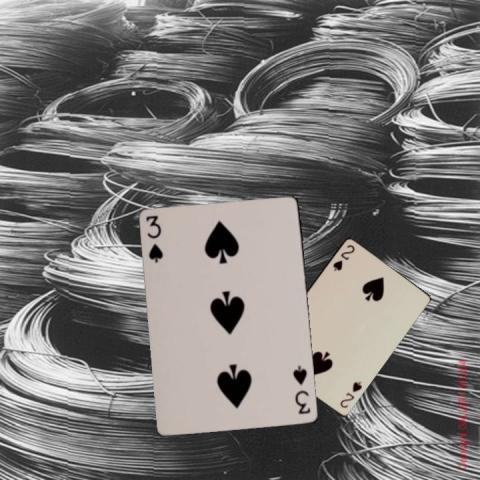2s: (330, 241, 356, 272), (337, 378, 363, 409)
3s: (290, 363, 312, 416), (143, 213, 165, 264)
